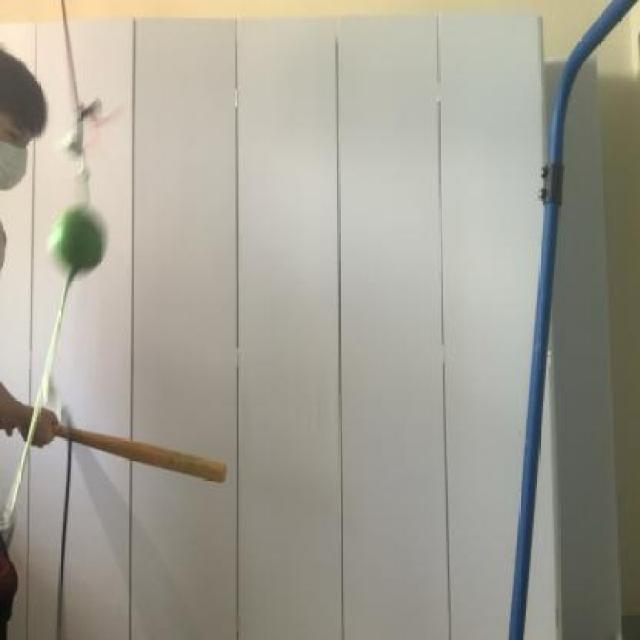baseball: (42, 206, 113, 285)
